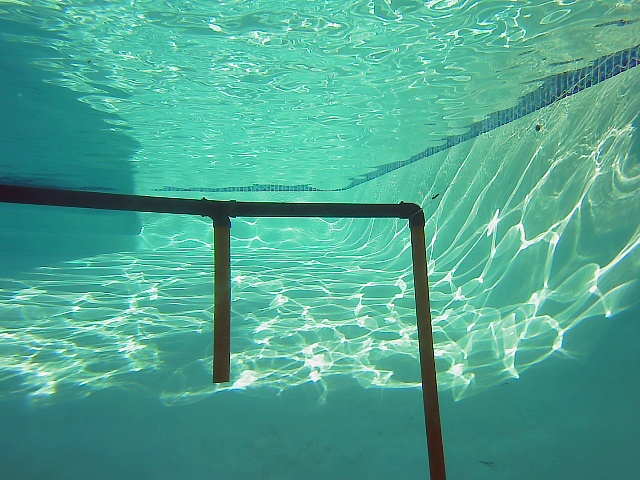Gate: (405, 222, 451, 480), (209, 220, 234, 388)
